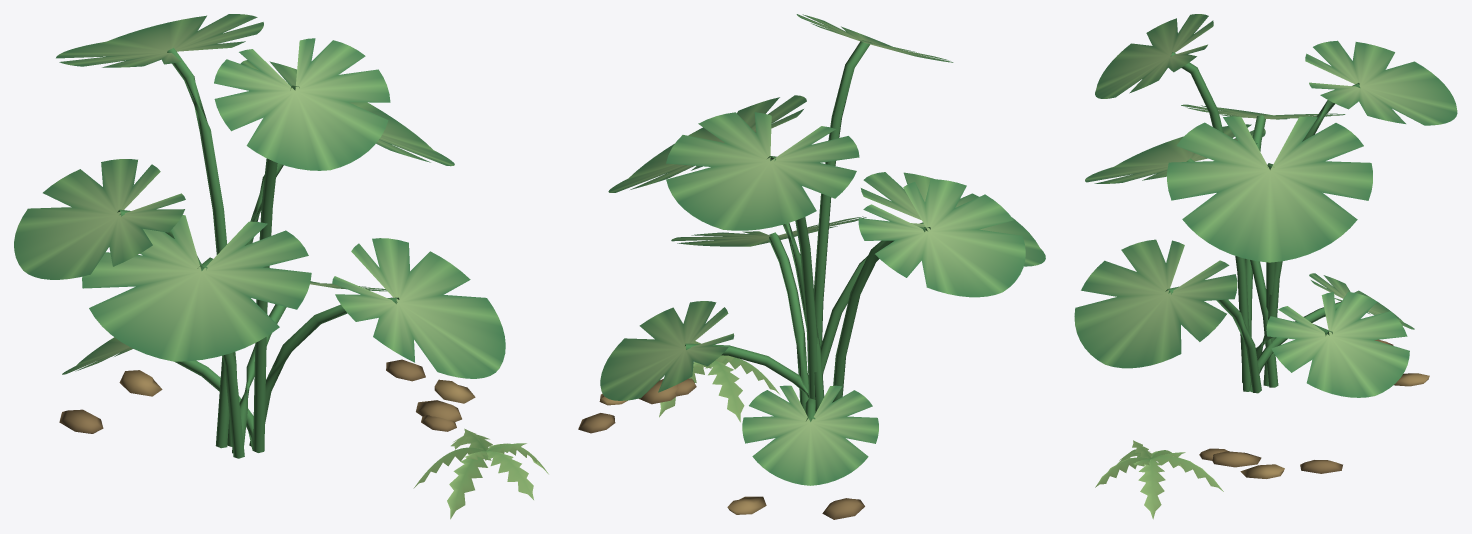
Rendered from jungle_monstera.glb.
The picture shows the model from 3 angles, left to right: view 1: azimuth 30°, elevation 25°; view 2: azimuth 150°, elevation 25°; view 3: azimuth 270°, elevation 25°; orthographic projection. The views are drawn at different scales.
Visible parts, largest first — view 1: body; view 2: body; view 3: body.
Part boxes in pixels (bbox=[...]): body: bbox=[14, 14, 548, 519]; body: bbox=[578, 14, 1045, 519]; body: bbox=[1074, 14, 1457, 519].
Bounding box in the file's own units: 0.5667 × 0.5517 × 0.4941.
